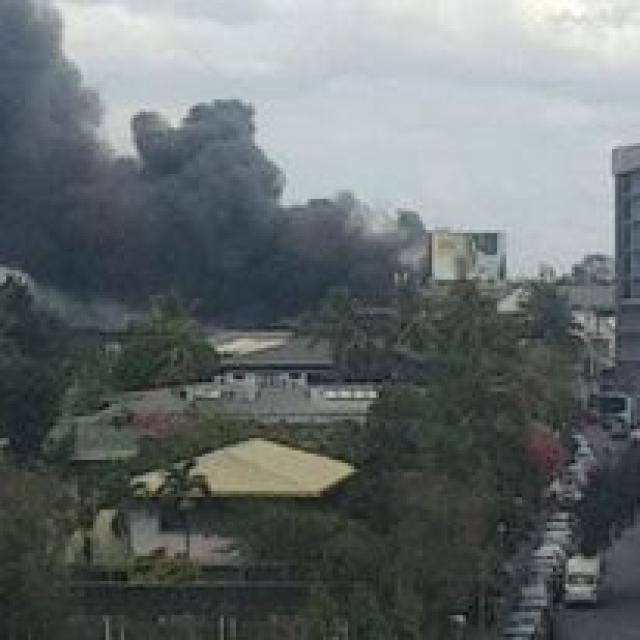Smoke: (121, 143, 383, 302), (0, 1, 124, 276)
